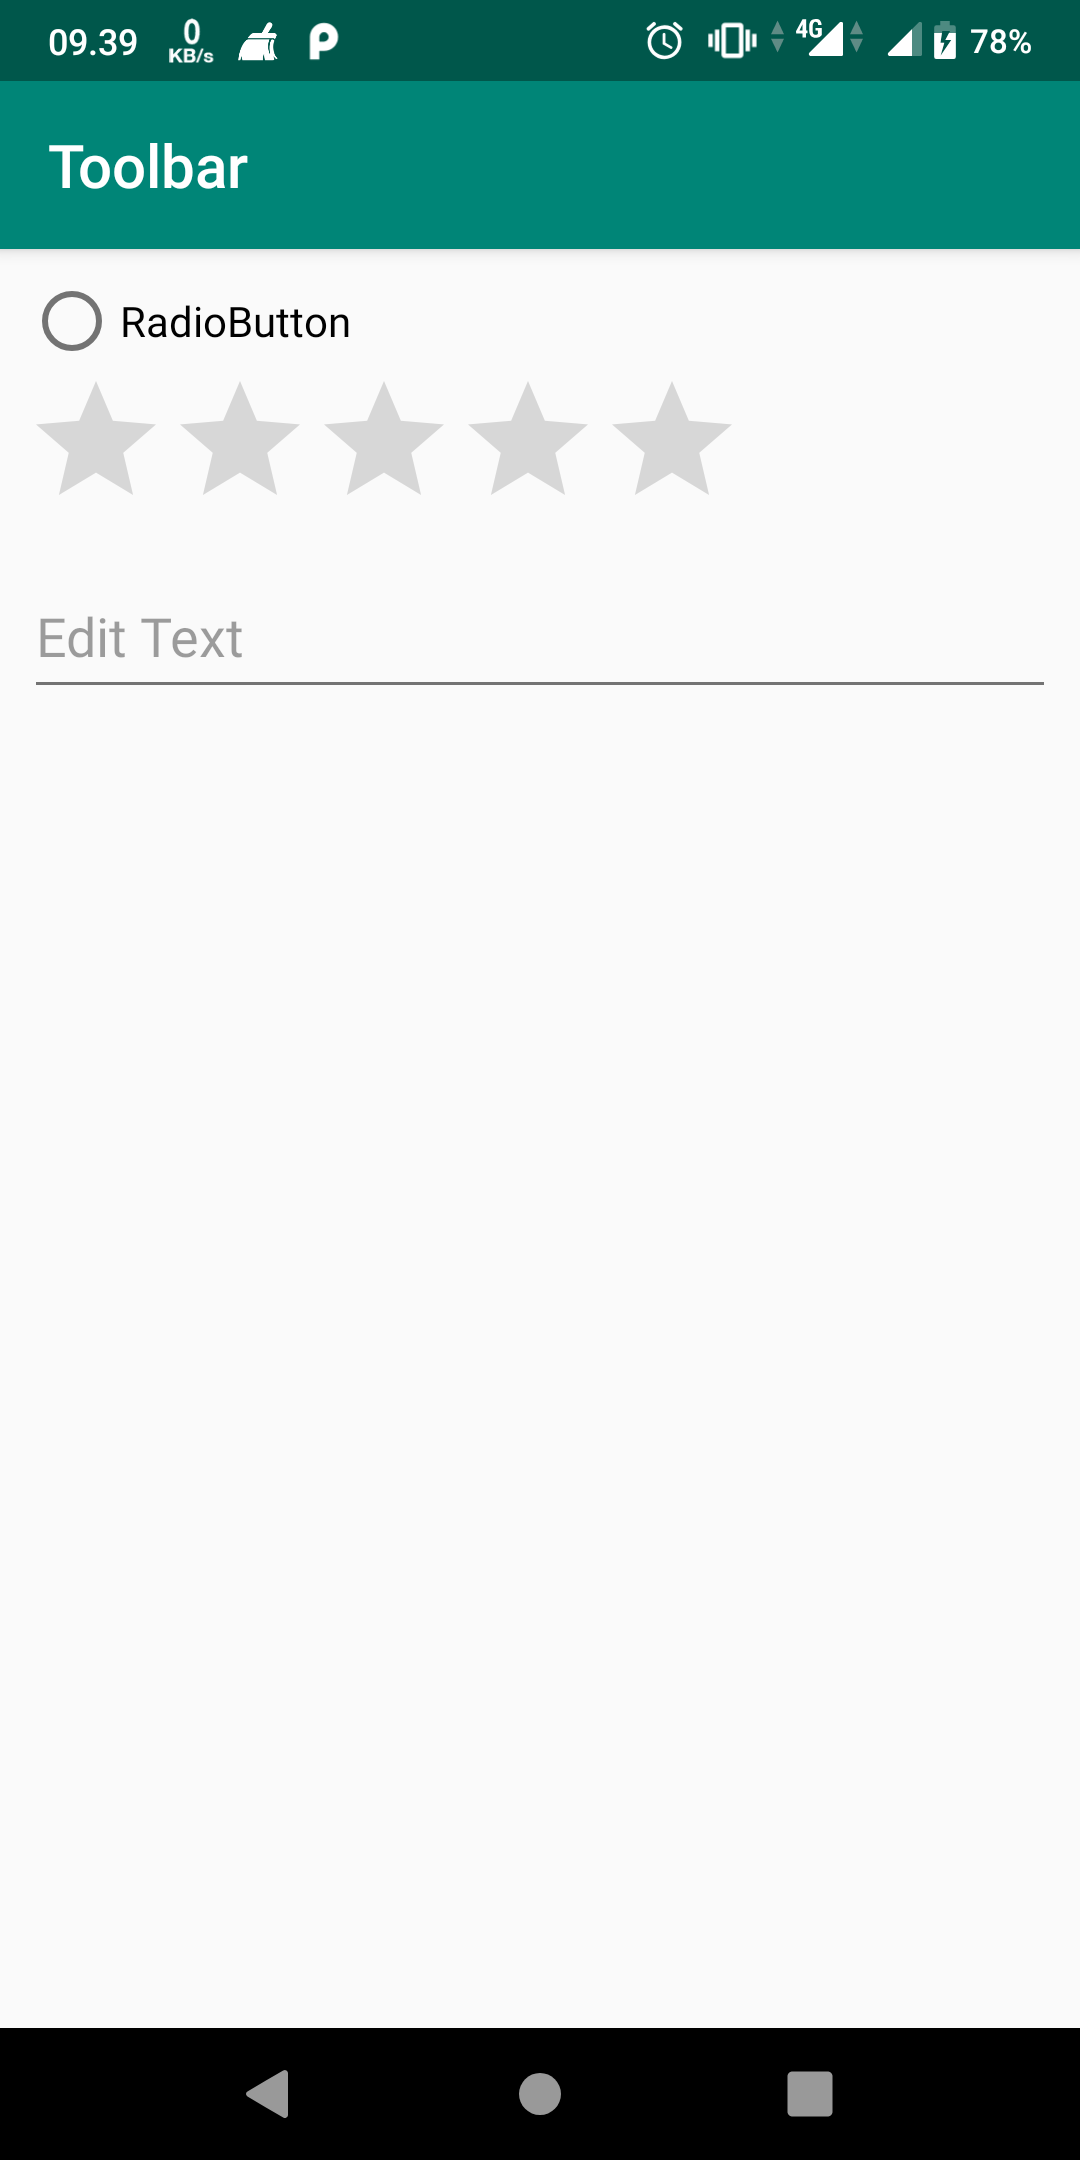editText: (25, 585, 1057, 703)
radioButton: (25, 277, 373, 366)
ratingBar: (32, 377, 741, 501)
toolbar: (3, 83, 1079, 253)
